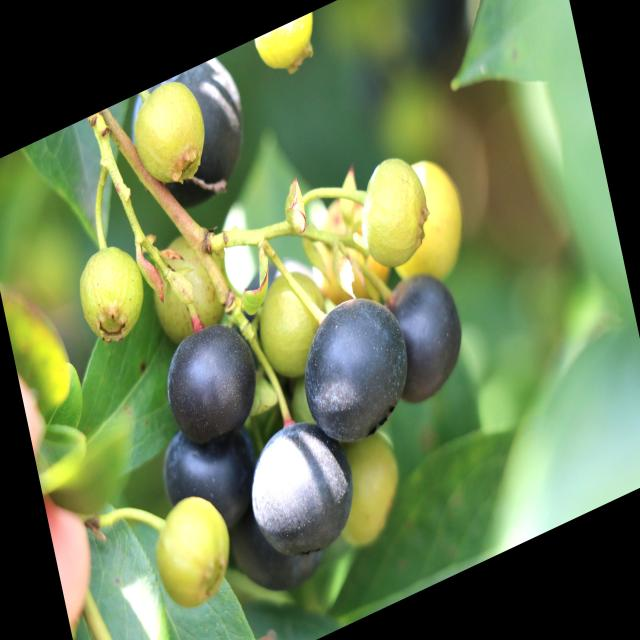blueberry: (123, 45, 270, 236), (286, 270, 423, 473), (237, 400, 373, 580), (371, 249, 483, 425), (152, 398, 271, 559), (155, 302, 270, 462)
blueberry-unripe: (380, 144, 470, 294), (148, 482, 238, 615), (149, 219, 235, 346), (126, 73, 214, 197), (349, 148, 431, 281), (252, 262, 336, 390), (71, 236, 148, 352), (252, 13, 322, 84)
